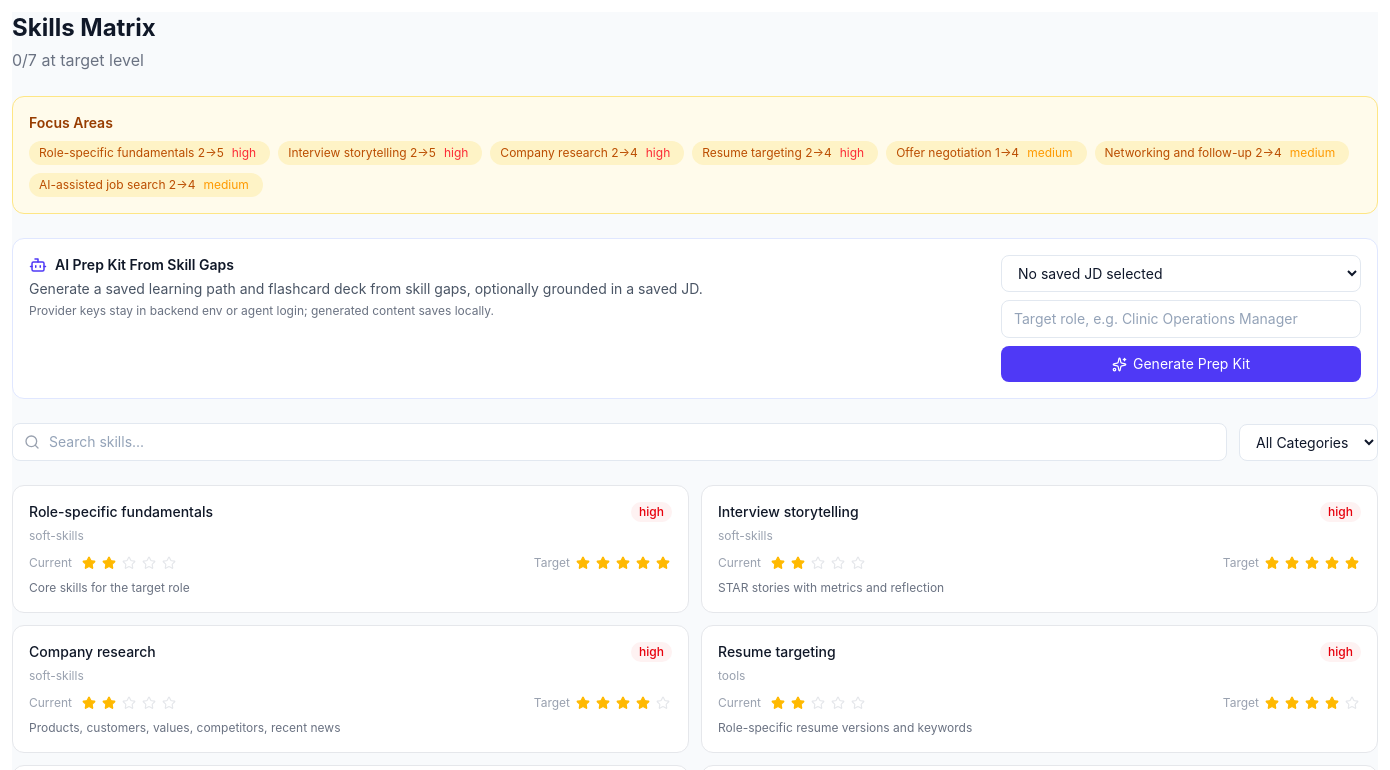
Test case: Skills AI prep kit › can discard generated AI prep before it mutates local data
Click the button "Generate Prep Kit". click: [1181, 364]
box: [1001,346,1361,382]
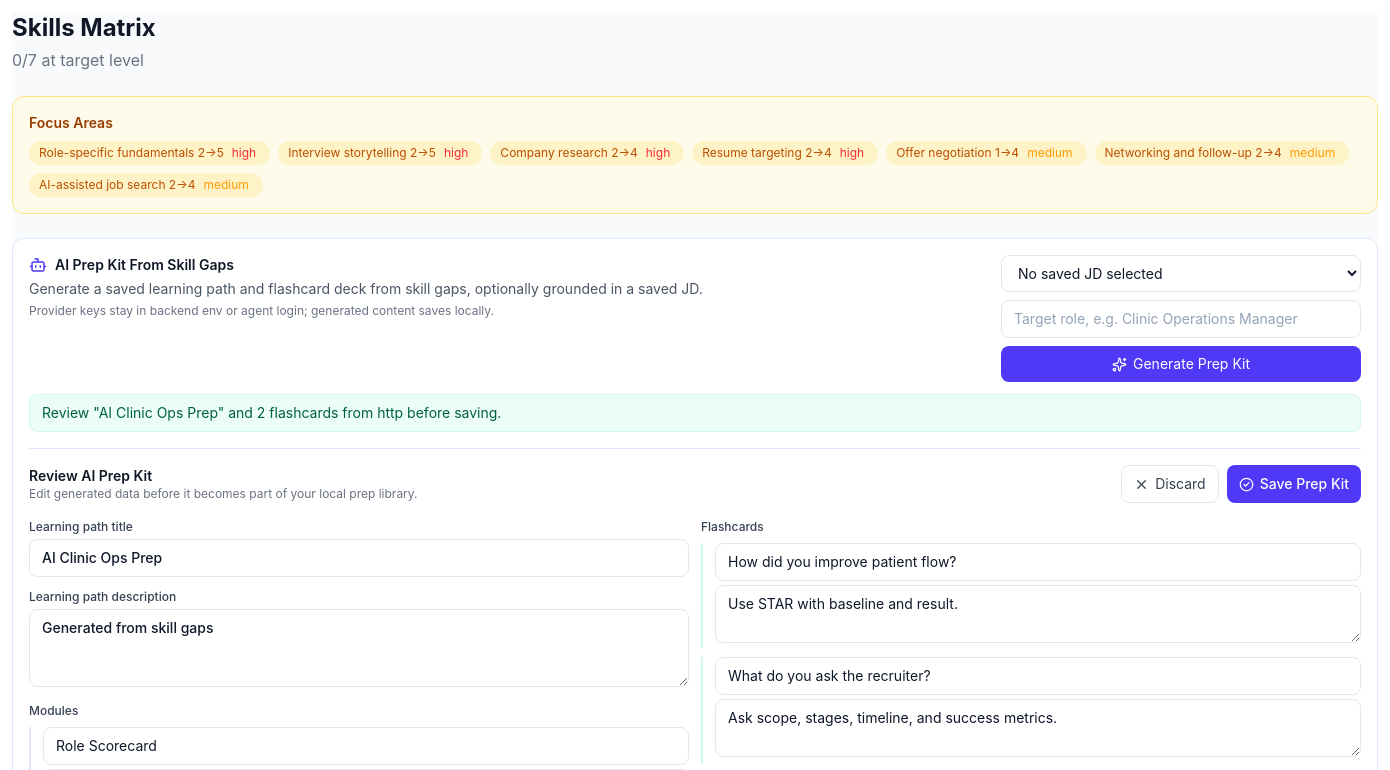
Expected: the heading "Review AI Prep Kit" is shown, [29,467,152,484]
Click the button "Discard". click: [1170, 484]
box: [1121,465,1219,503]
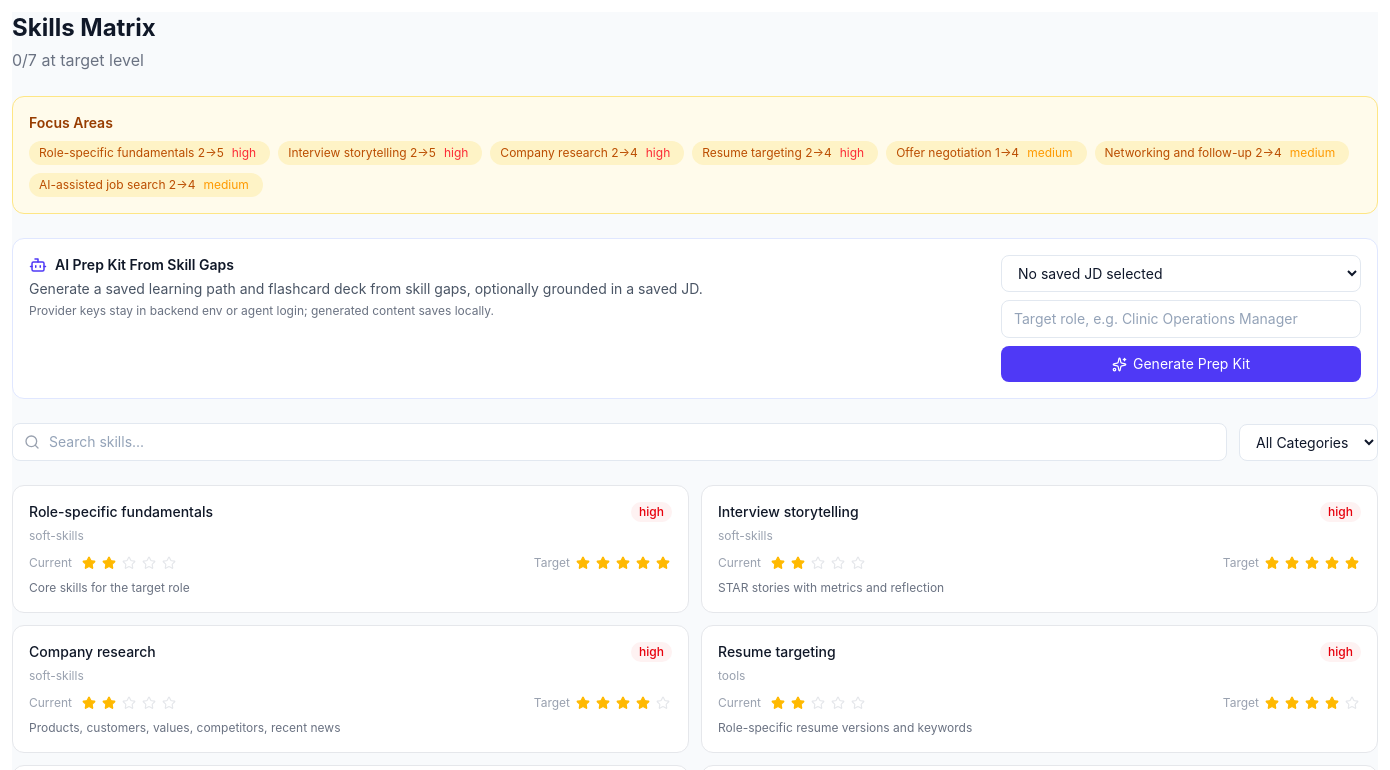
Expected: the heading "Review AI Prep Kit" is gone
